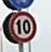limite 10: (9, 11, 36, 42)
